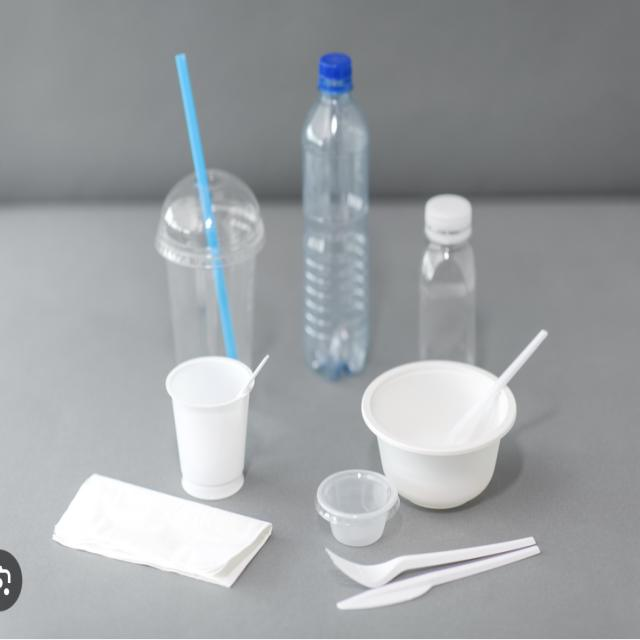recyclable: (292, 41, 386, 392), (360, 357, 534, 512), (151, 345, 278, 514), (415, 170, 483, 371), (300, 457, 407, 551)
